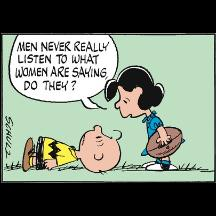charlie: (21, 125, 122, 175)
